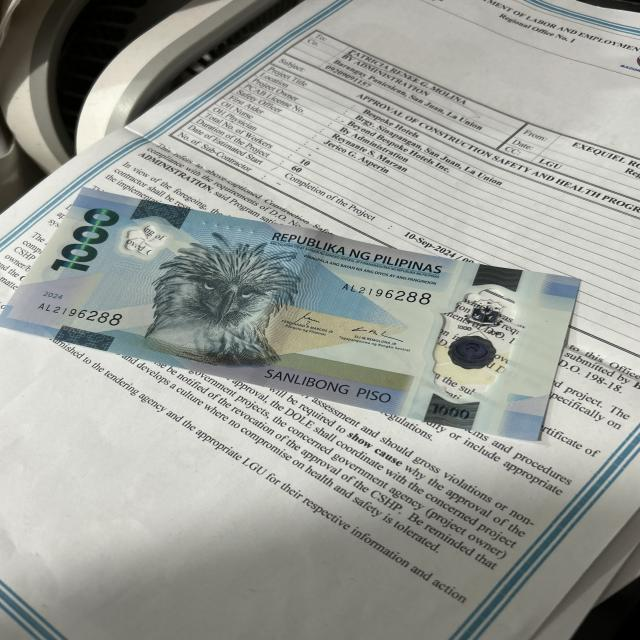clear_window: (429, 280, 526, 411)
eagle: (160, 235, 284, 368)
sampaguita: (122, 224, 168, 258)
serial_number: (26, 296, 130, 332), (331, 276, 433, 310)
